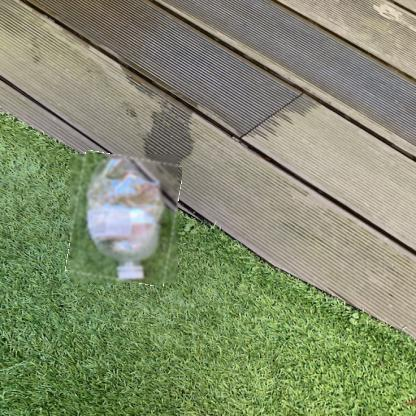plastic-bottles: (70, 154, 179, 284)
